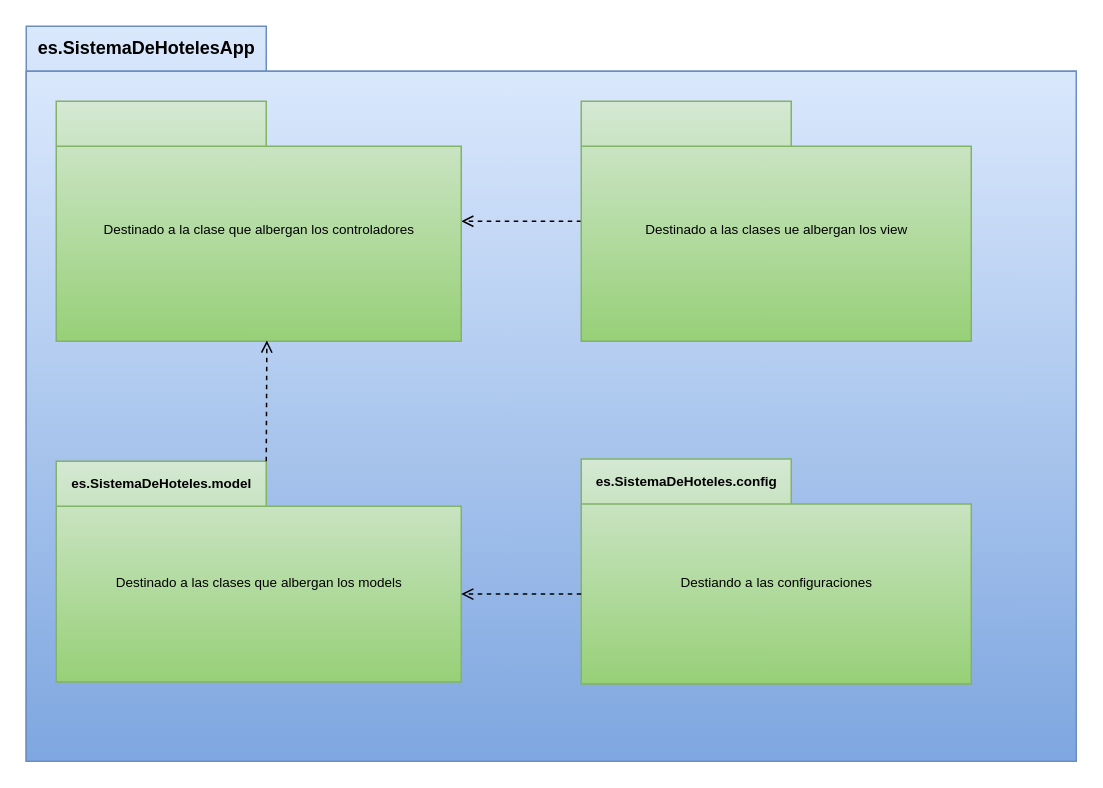
This 1103x788 diagram has some shape labels left out. The centre of each missing label's shape, as x and y in pixels:
"es.SistemaDeHoteles.controler" belongs at point (258, 220).
"es.SistemaDeHoteles.view" belongs at point (775, 220).
